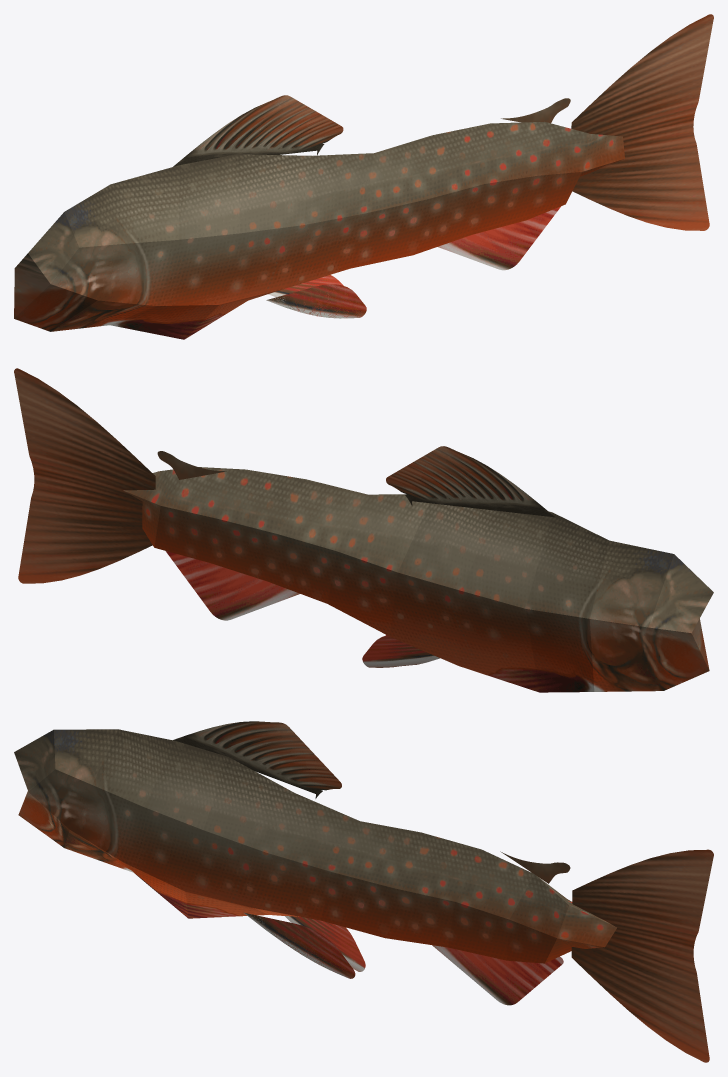
Rendered from Arctic char.fbx.
3 renders of one model, top to bottom at view 1: azimuth 30°, elevation 25°; view 2: azimuth 150°, elevation 25°; view 3: azimuth 330°, elevation 25°, orthographic.
Parts seen in each view (by area): view 1: Line016, Line002, Line005, Line009, Line013, Line003, Line014; view 2: Line016, Line002, Line005, Line009, Line014, Line003; view 3: Line016, Line002, Line005, Line009, Line013, Line014, Line003.
Part boxes in pixels (<box>): Line016: <box>14,121,624,339</box>; Line002: <box>571,14,713,230</box>; Line005: <box>173,95,343,166</box>; Line009: <box>438,206,560,270</box>; Line013: <box>266,284,366,318</box>; Line003: <box>501,98,570,123</box>; Line014: <box>268,275,343,297</box>; Line016: <box>123,467,713,692</box>; Line002: <box>14,368,155,583</box>; Line005: <box>386,446,554,517</box>; Line009: <box>165,551,299,620</box>; Line014: <box>362,635,439,667</box>; Line003: <box>157,451,226,479</box>; Line016: <box>14,729,616,963</box>; Line002: <box>571,849,713,1062</box>; Line005: <box>173,721,341,798</box>; Line009: <box>432,945,563,1005</box>; Line013: <box>244,912,355,978</box>; Line014: <box>285,916,365,971</box>; Line003: <box>500,851,570,883</box>.
Size of the model in its own units: 775 by 254 by 70.41.
Materials: 4 (4 with a texture image).
